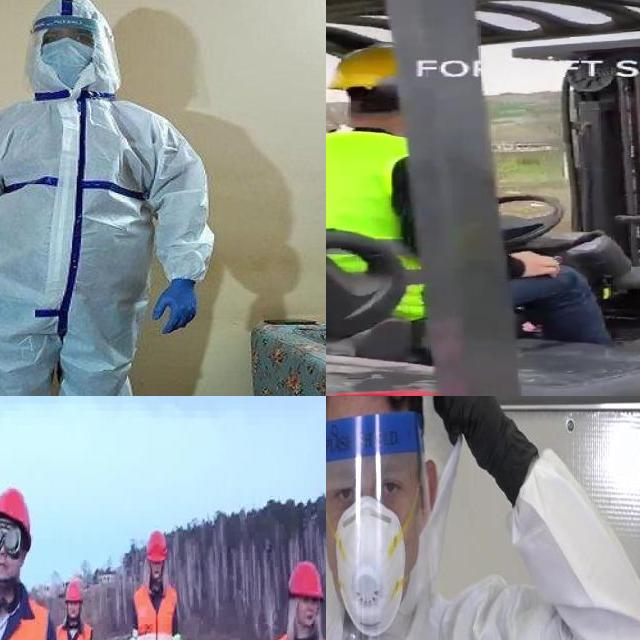GLASS: (0, 520, 25, 561)
Glove: (426, 396, 536, 502), (148, 275, 208, 338)
HELMET: (285, 559, 323, 600), (0, 490, 31, 538), (147, 532, 168, 562), (62, 583, 84, 603)
MASK: (337, 499, 406, 638), (36, 38, 99, 82)
VEST: (134, 580, 180, 640)
